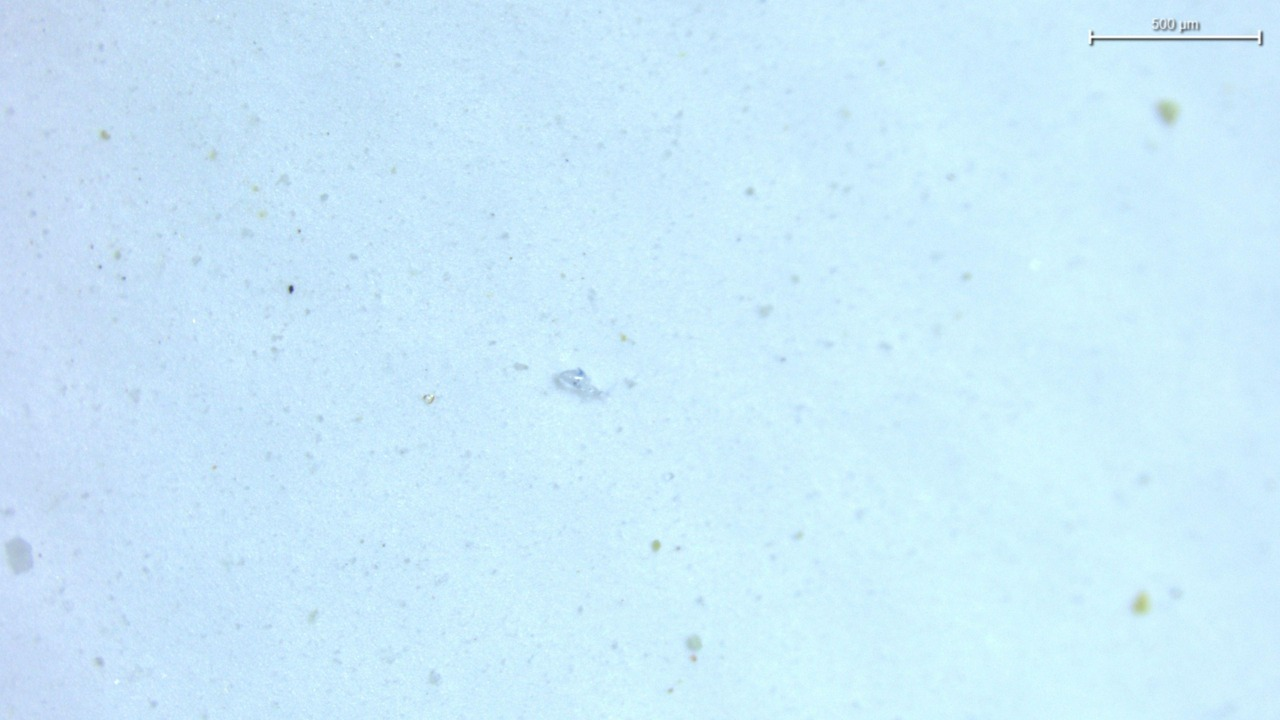microplastic_fragment: (552, 368, 604, 398)
